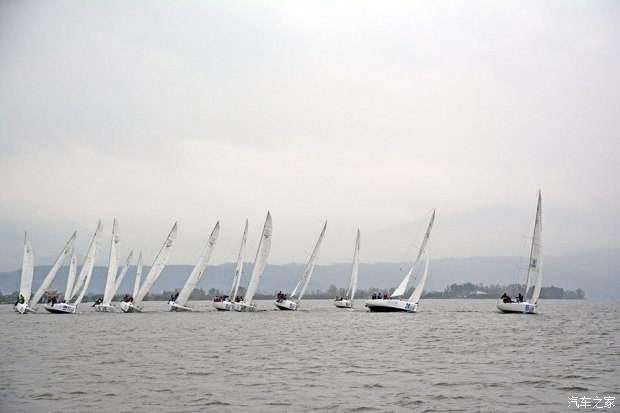fanchuan: (365, 209, 442, 318), (493, 192, 557, 316), (44, 223, 105, 314), (119, 225, 178, 314), (163, 223, 220, 314), (273, 221, 326, 311), (235, 210, 280, 314), (10, 232, 61, 318), (92, 217, 133, 314), (214, 218, 253, 313), (334, 228, 363, 304)
